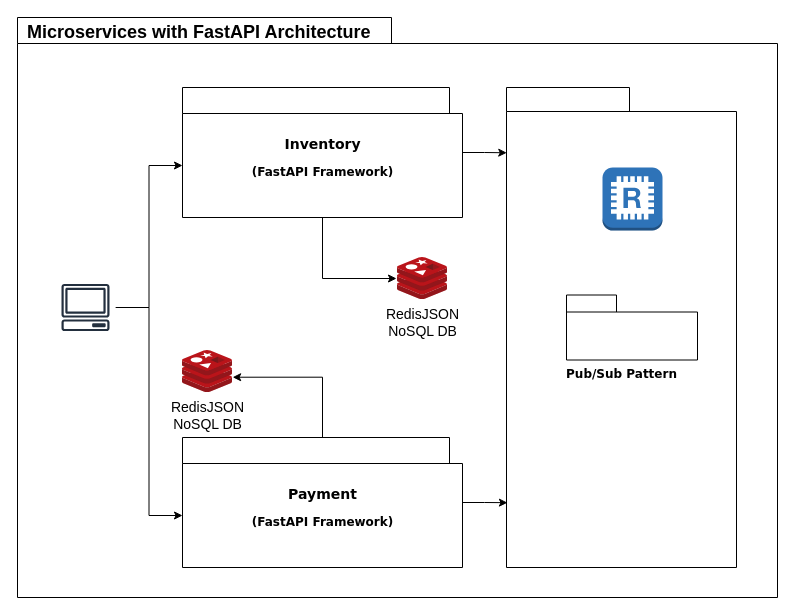
Image size: 795x615. Some labels were removed from this diagram. Here are the shapes that lost their labels. From the top down, the centre of each, then its label:
(632,198): Redis as Message Broker
(85,307): Client
(632,327): Message Broker Redis Streams
